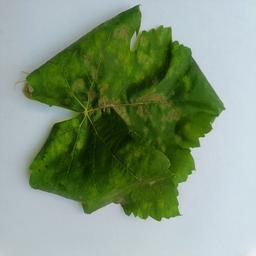Powdery-Mildew: (136, 90, 181, 124), (135, 42, 169, 74), (101, 92, 130, 124), (72, 130, 89, 150), (114, 25, 130, 41), (73, 75, 88, 90)
